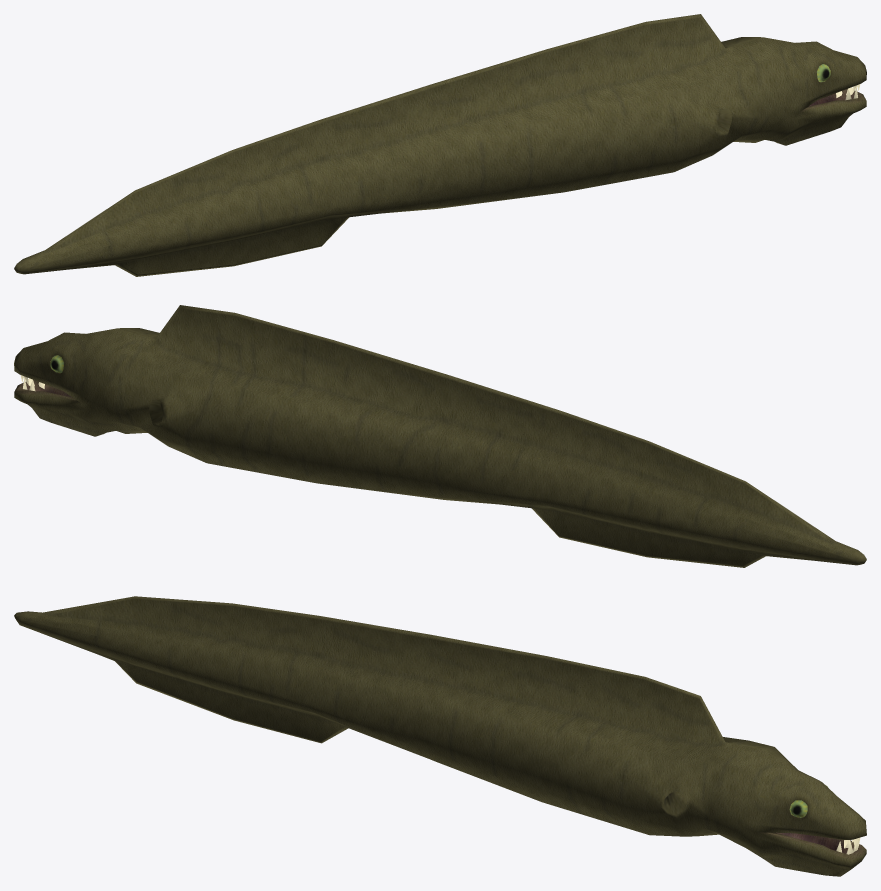
File: moray_eel.obj
The picture shows the model from 3 angles, top to bottom: view 1: azimuth 30°, elevation 25°; view 2: azimuth 150°, elevation 25°; view 3: azimuth 330°, elevation 25°; orthographic projection.
Visible parts, largest first — view 1: Default; view 2: Default; view 3: Default.
Boxes of the visible parts, x1=… form: Default: x1=14, y1=14, x2=866, y2=276; Default: x1=14, y1=305, x2=866, y2=567; Default: x1=14, y1=596, x2=866, y2=876.
Size of the model in its own units: 17.6 by 3.04 by 1.99.
1 material, 1 textured.
